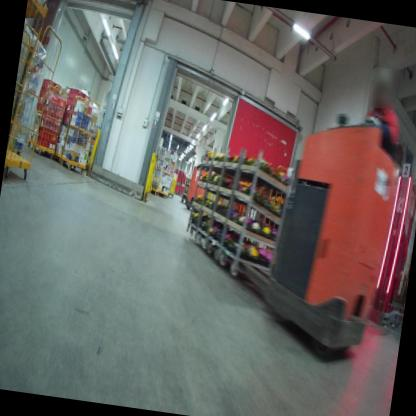pallet_truck: (205, 96, 410, 360), (181, 151, 221, 212)
